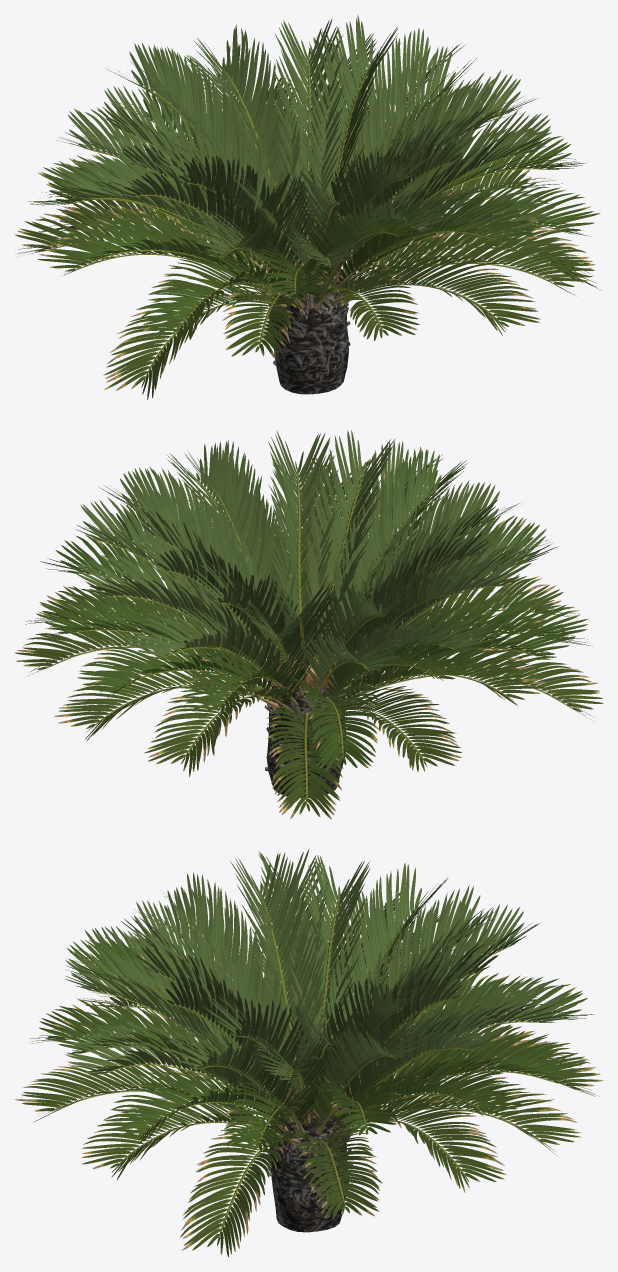
Rendered from Cycas revoluta HD_Standard 1 trunk mat 0_LOD0.fbx.
3 renders of one model, top to bottom at view 1: azimuth 30°, elevation 25°; view 2: azimuth 150°, elevation 25°; view 3: azimuth 270°, elevation 25°, orthographic.
Visible parts, largest first — view 1: Cycas_revoluta_HD; view 2: Cycas_revoluta_HD; view 3: Cycas_revoluta_HD.
Part boxes in pixels (left/top/right/bottom): Cycas_revoluta_HD: left=14, top=15, right=601, bottom=399; Cycas_revoluta_HD: left=14, top=430, right=603, bottom=819; Cycas_revoluta_HD: left=14, top=848, right=603, bottom=1257.
Bounding box in the file's own units: 0.7592 × 0.4177 × 0.7477.
8 materials, 8 textured.
